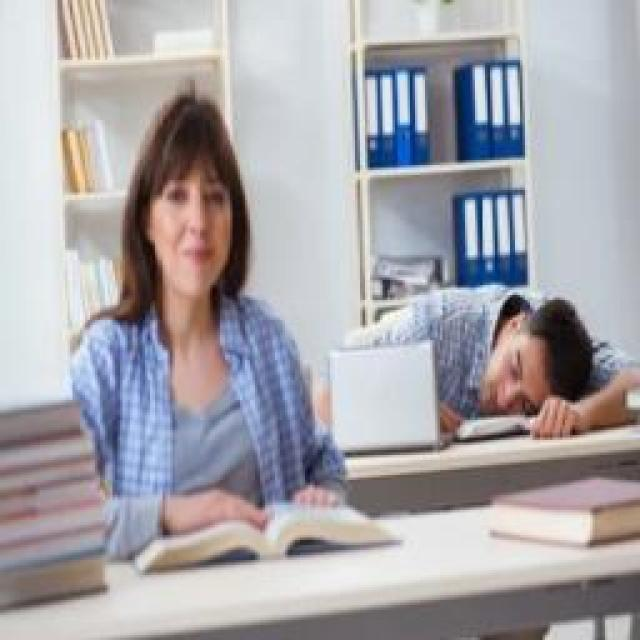sleep: (325, 273, 640, 445)
study: (67, 92, 345, 560)
